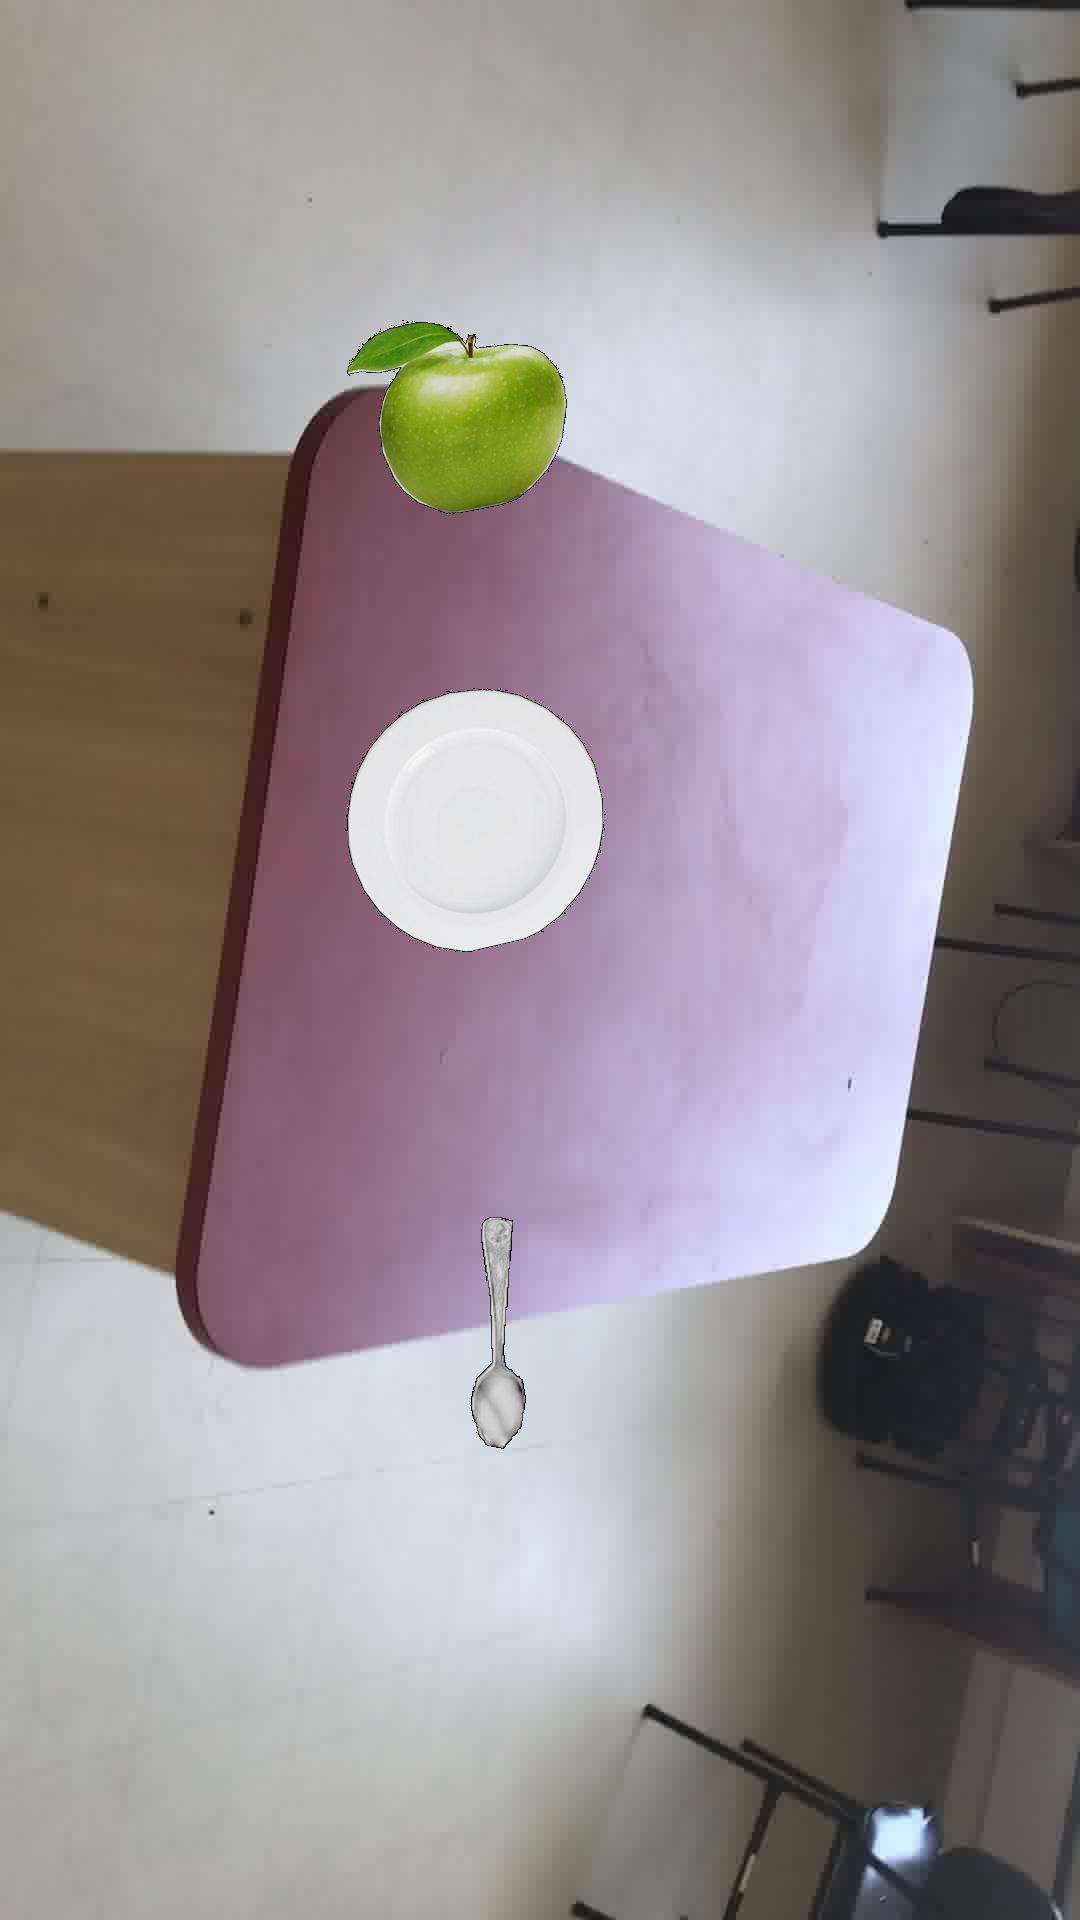green apple: (345, 320, 566, 513)
plate: (343, 687, 603, 951)
spoon: (468, 1216, 525, 1448)
